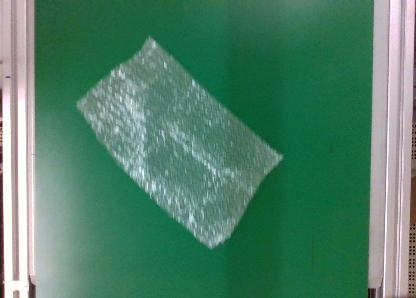Others: (75, 31, 284, 249)
